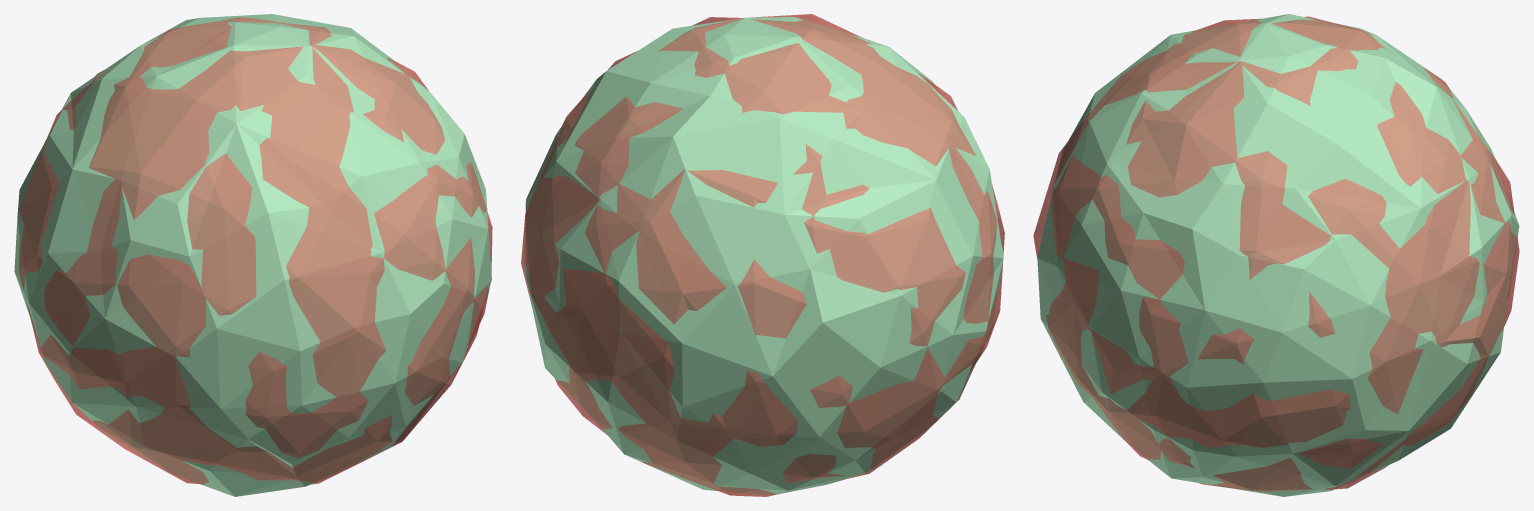
Rendered from gas_planet9.fbx.
3 views of the same model, side by side, from view 1: azimuth 30°, elevation 25°; view 2: azimuth 150°, elevation 25°; view 3: azimuth 270°, elevation 25° (orthographic).
Parts seen in each view (by area): view 1: gas_planet9; view 2: gas_planet9; view 3: gas_planet9.
Boxes of the visible parts, x1=… form: gas_planet9: x1=14, y1=14, x2=492, y2=496; gas_planet9: x1=521, y1=14, x2=1004, y2=496; gas_planet9: x1=1033, y1=14, x2=1519, y2=496.
Size of the model in its own units: 201 by 200 by 201.
